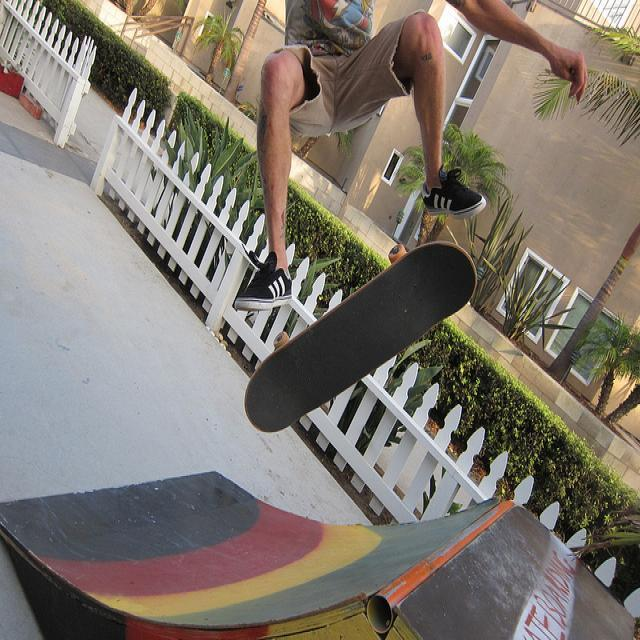non-dog: (233, 1, 587, 312)
